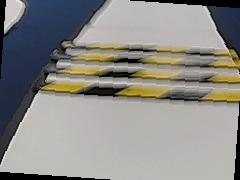bump: (34, 40, 239, 103)
